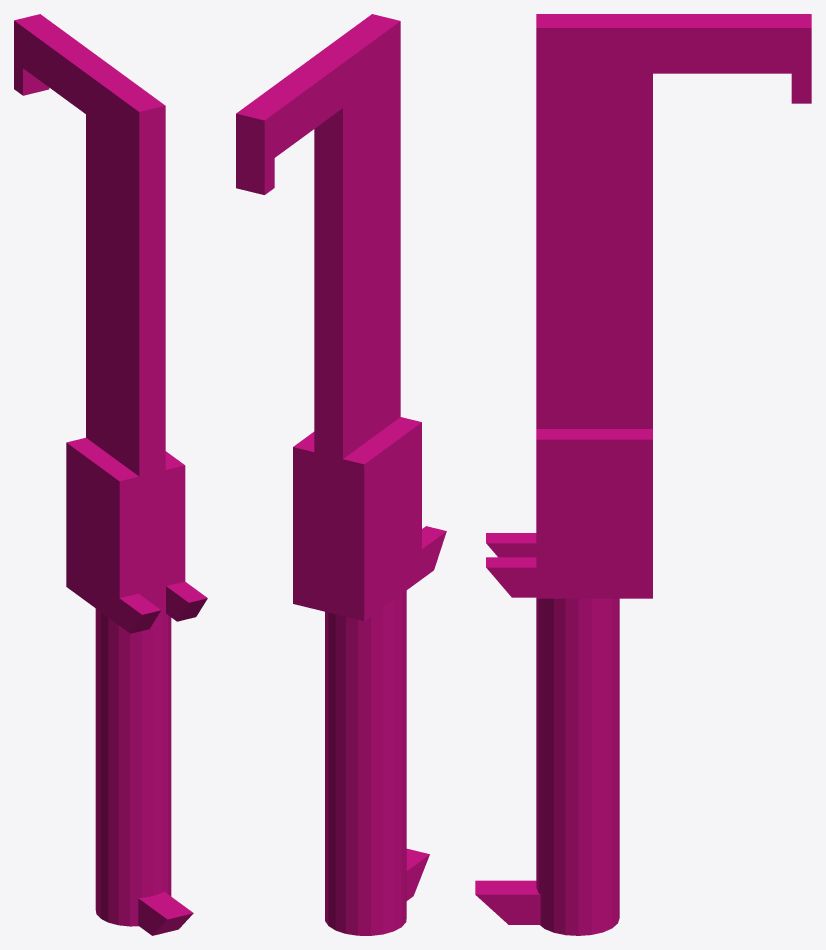
The model's file is tinker.obj.
3 renders of one model, left to right at view 1: azimuth 30°, elevation 25°; view 2: azimuth 150°, elevation 25°; view 3: azimuth 270°, elevation 25°, orthographic. The views are drawn at different scales.
Parts seen in each view (by area): view 1: obj_0; view 2: obj_0; view 3: obj_0.
Part boxes in pixels (<box>): obj_0: <box>14,14,207,935</box>; obj_0: <box>236,14,446,935</box>; obj_0: <box>475,14,811,935</box>.
Bounding box in the file's own units: 50 × 593 × 202.
